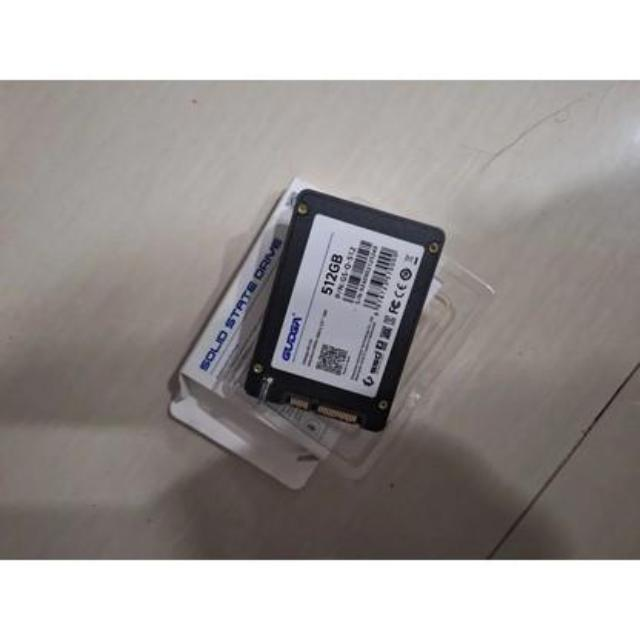DISK: (243, 185, 448, 432)
